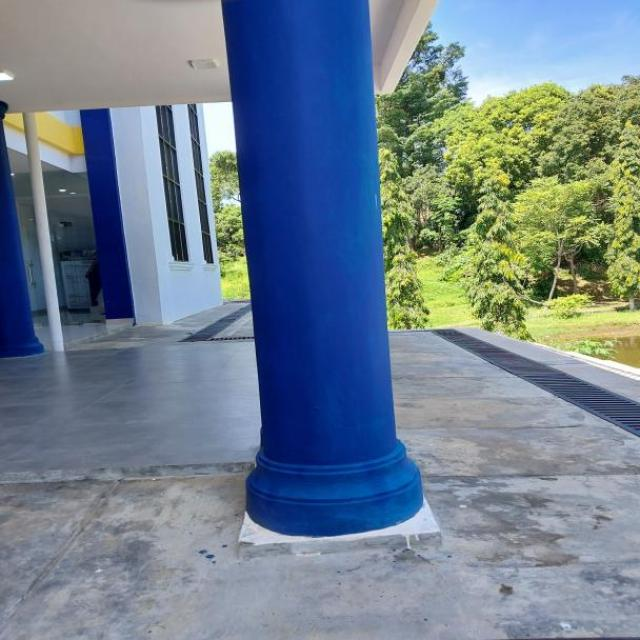pillar ahead at: (216, 0, 429, 547)
